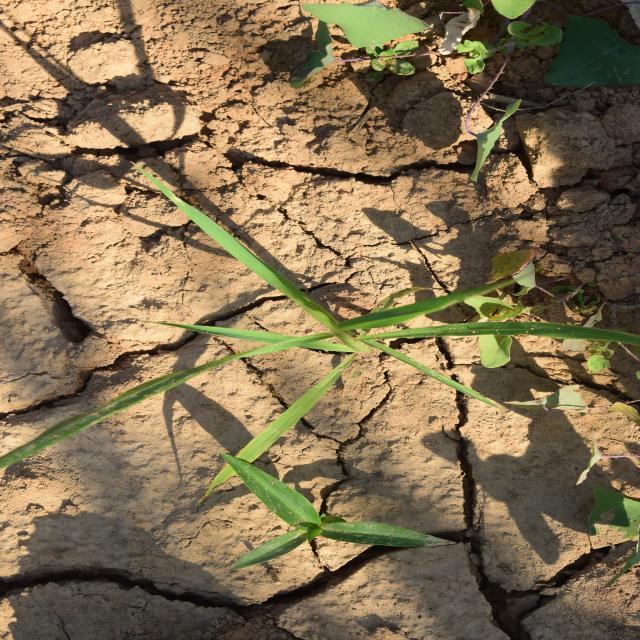green_foxtail: (195, 95, 398, 499)
